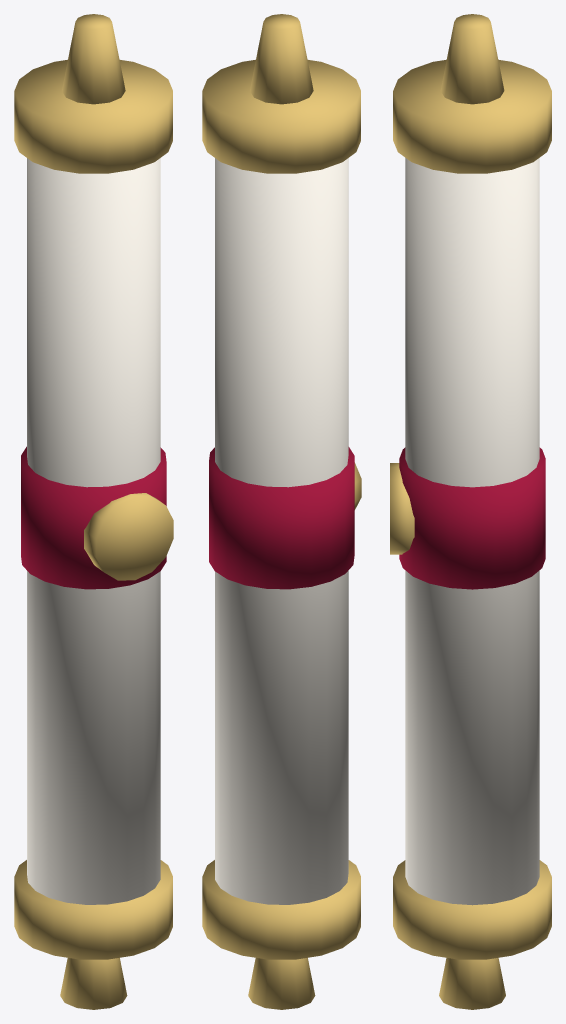
Rendered from imperial-scroll.glb.
The picture shows the model from 3 angles, left to right: view 1: azimuth 30°, elevation 25°; view 2: azimuth 150°, elevation 25°; view 3: azimuth 270°, elevation 25°; orthographic projection.
Visible parts, largest first — view 1: TS_Prop_imperial-scroll; view 2: TS_Prop_imperial-scroll; view 3: TS_Prop_imperial-scroll.
Boxes of the visible parts, x1,y1,x2,y2 form: TS_Prop_imperial-scroll: (14,14,173,1009); TS_Prop_imperial-scroll: (202,14,361,1009); TS_Prop_imperial-scroll: (390,14,551,1009).
Size of the model in its own units: 0.0512 by 0.352 by 0.053.
1 material, 1 textured.
